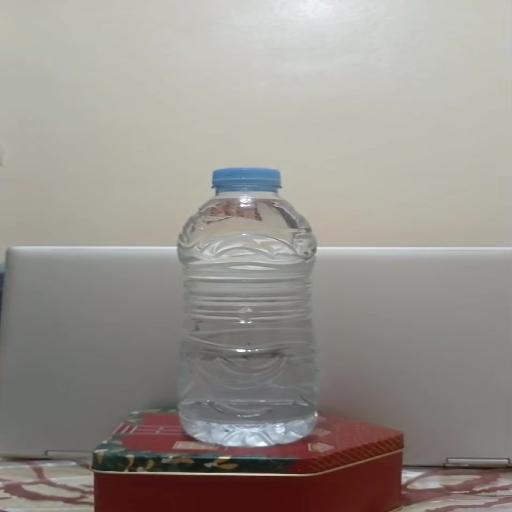bouteille non conformite: (77, 167, 402, 437), (56, 250, 342, 347)
